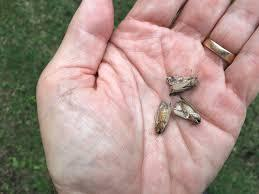fallarmy_worm: (151, 101, 173, 137)
